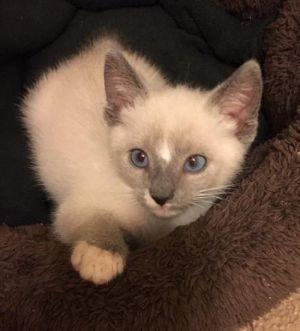siamese: (90, 39, 273, 241)
